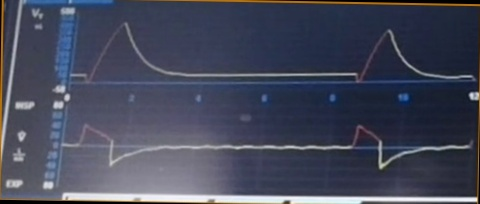Flow: (66, 116, 440, 188)
Leakage Volume: (75, 21, 455, 92)
